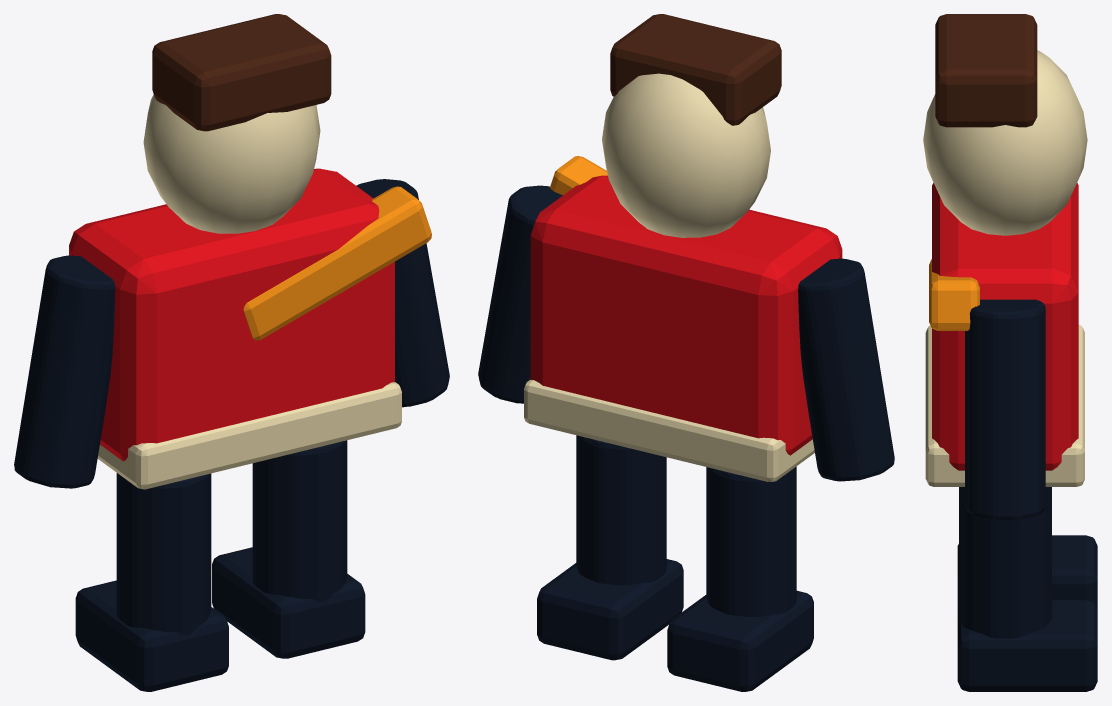
The model's file is runner.obj.
The picture shows the model from 3 angles, left to right: view 1: azimuth 30°, elevation 25°; view 2: azimuth 150°, elevation 25°; view 3: azimuth 270°, elevation 25°; orthographic projection. The views are drawn at different scales.
Parts seen in each view (by area): view 1: runner_torso_M_red, runner_arm_r_M_navy, runner_head_M_cream, runner_hair_M_brown, runner_leg_r_M_navy, runner_leg_l_M_navy, runner_belt_M_cream, runner_boot_r_M_navy, runner_boot_l_M_navy, runner_scarf_M_gold, runner_arm_l_M_navy; view 2: runner_torso_M_red, runner_head_M_cream, runner_arm_r_M_navy, runner_leg_r_M_navy, runner_leg_l_M_navy, runner_hair_M_brown, runner_belt_M_cream, runner_boot_r_M_navy, runner_boot_l_M_navy, runner_arm_l_M_navy, runner_scarf_M_gold; view 3: runner_torso_M_red, runner_arm_l_M_navy, runner_head_M_cream, runner_hair_M_brown, runner_leg_l_M_navy, runner_boot_l_M_navy, runner_belt_M_cream, runner_boot_r_M_navy, runner_scarf_M_gold.
Part boxes in pixels (x1,y1,x2,y2): runner_torso_M_red: (69,168,394,461); runner_arm_r_M_navy: (14,255,115,488); runner_head_M_cream: (143,94,320,233); runner_hair_M_brown: (152,14,331,131); runner_leg_r_M_navy: (116,473,211,635); runner_leg_l_M_navy: (252,440,347,602); runner_belt_M_cream: (97,382,401,489); runner_boot_r_M_navy: (75,580,228,691); runner_boot_l_M_navy: (212,547,365,658); runner_scarf_M_gold: (243,186,431,340); runner_arm_l_M_navy: (356,179,449,407); runner_torso_M_red: (530,175,842,455); runner_head_M_cream: (602,73,770,237); runner_arm_r_M_navy: (798,258,894,481); runner_leg_r_M_navy: (706,466,796,616); runner_leg_l_M_navy: (576,435,666,585); runner_hair_M_brown: (610,14,781,125); runner_belt_M_cream: (524,379,814,481); runner_boot_r_M_navy: (667,590,813,691); runner_boot_l_M_navy: (537,559,683,660); runner_arm_l_M_navy: (478,185,562,403); runner_scarf_M_gold: (550,156,607,195); runner_torso_M_red: (932,183,1078,470); runner_arm_l_M_navy: (965,299,1045,520); runner_head_M_cream: (923,50,1087,235); runner_hair_M_brown: (935,14,1037,127); runner_leg_l_M_navy: (959,487,1051,638); runner_boot_l_M_navy: (957,600,1097,691); runner_belt_M_cream: (925,325,1084,486); runner_boot_r_M_navy: (957,535,1097,609); runner_scarf_M_gold: (929,259,979,330).
Bounding box in the file's own units: 0.7474 × 1.04 × 0.274.
